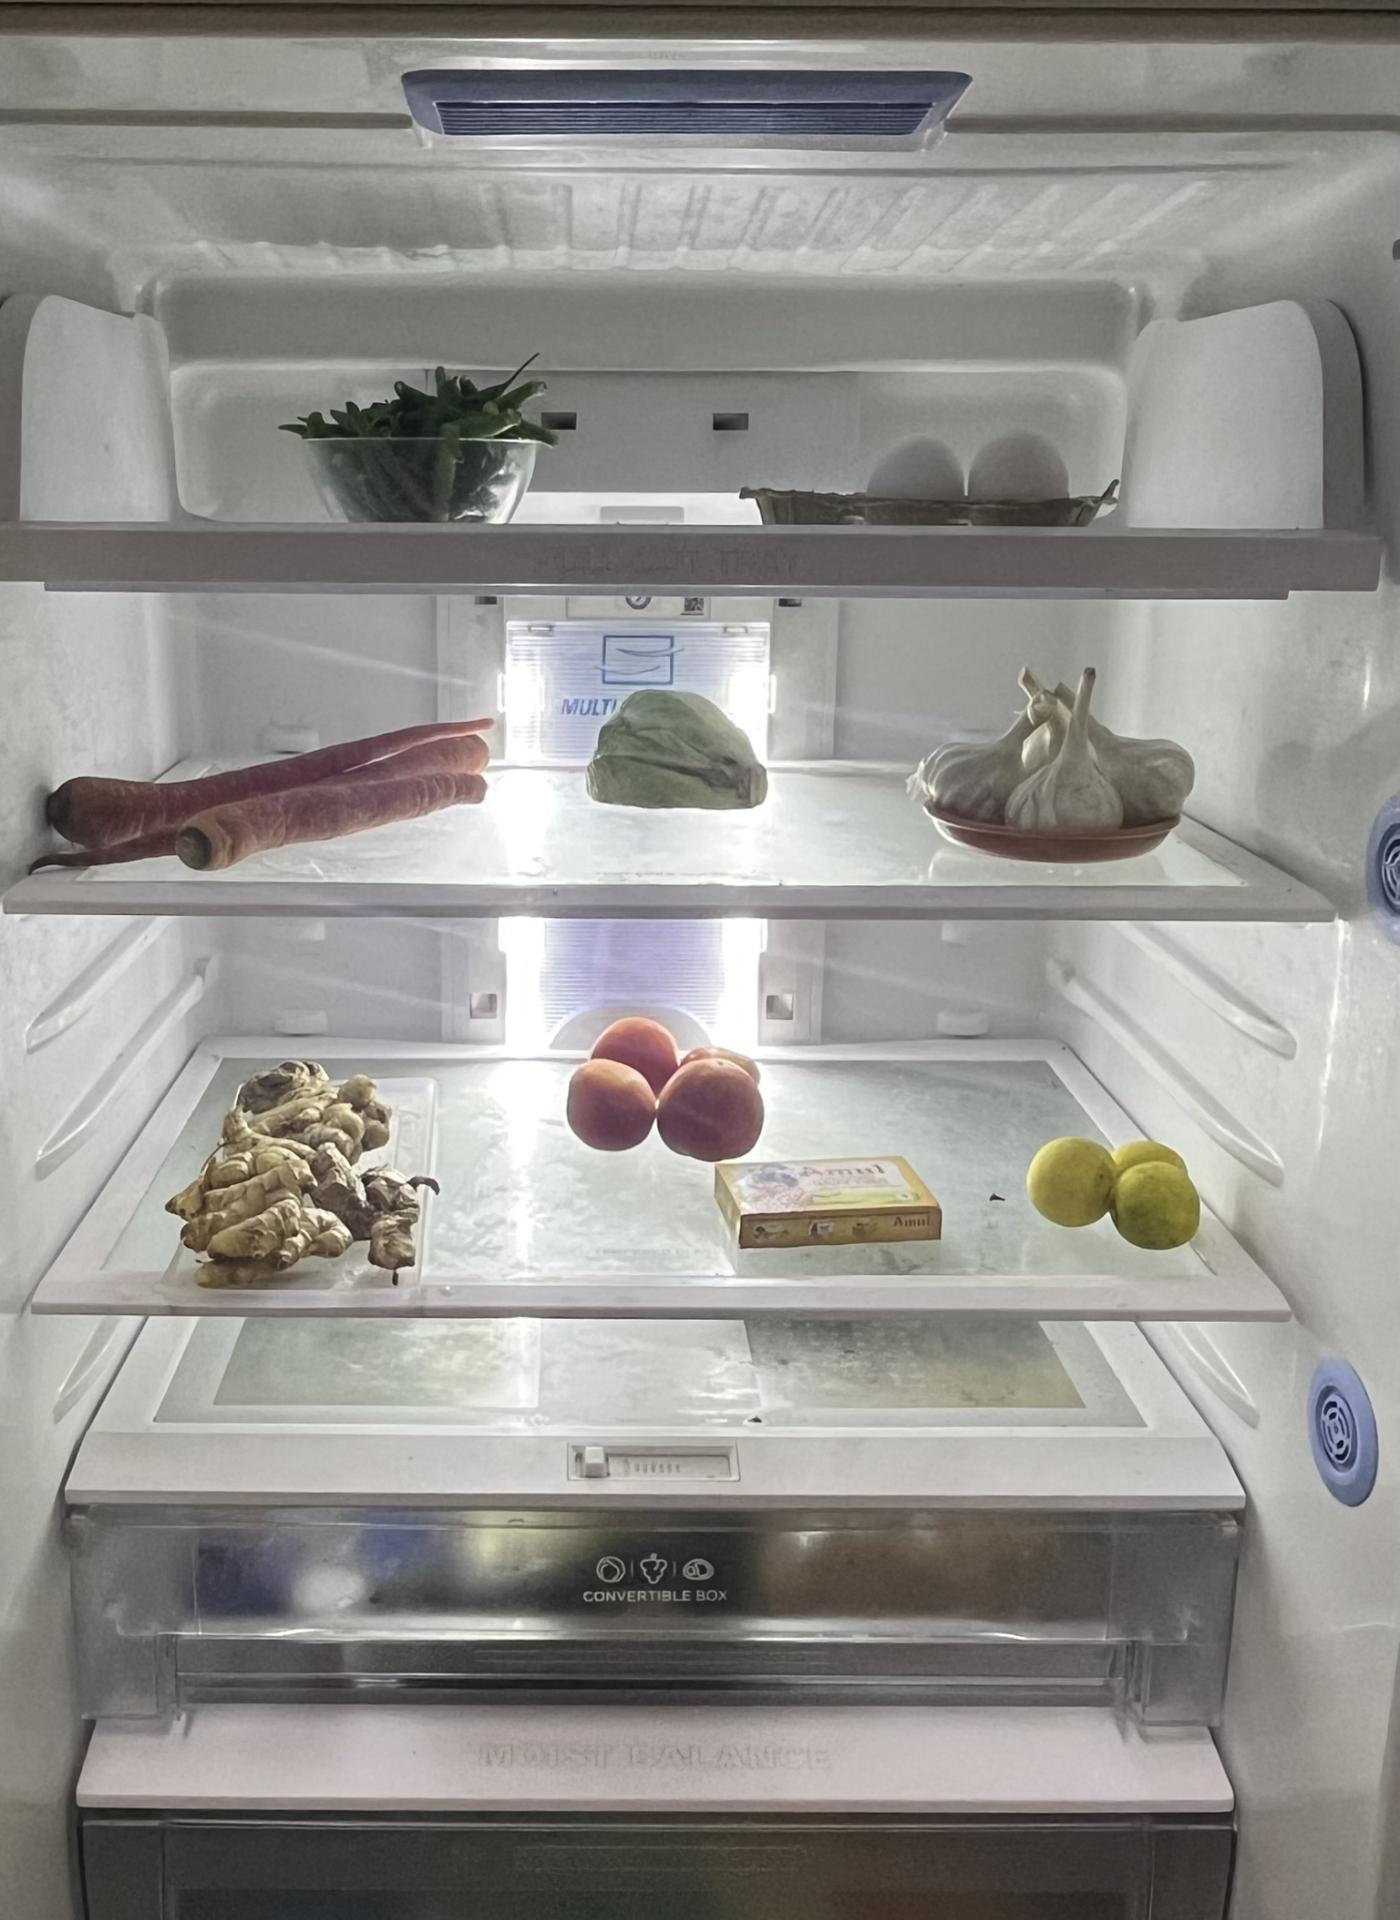butter: (706, 1146, 945, 1256)
cabbage: (583, 692, 777, 818)
carrots: (38, 716, 507, 870)
chillies: (296, 354, 568, 517)
egg: (863, 425, 1072, 500)
garlic: (924, 658, 1185, 840)
ginger: (167, 1061, 424, 1275)
lemon: (1021, 1120, 1204, 1252)
tomato: (561, 1015, 766, 1162)
